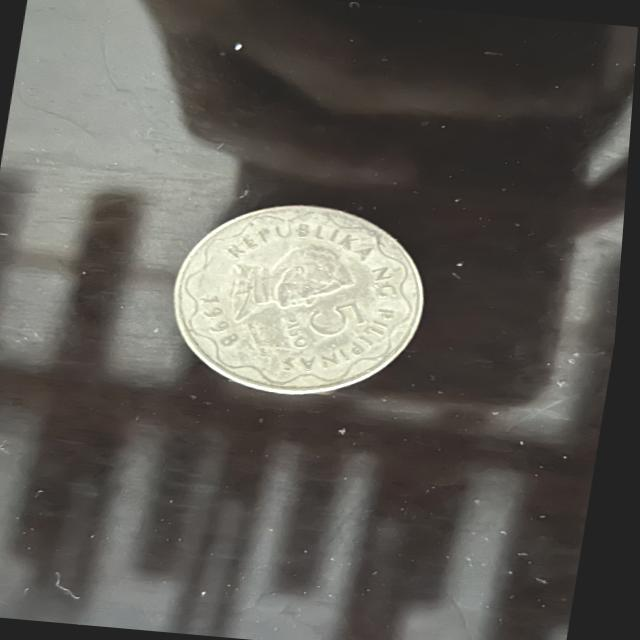5_Old_Front: (190, 217, 412, 386)
